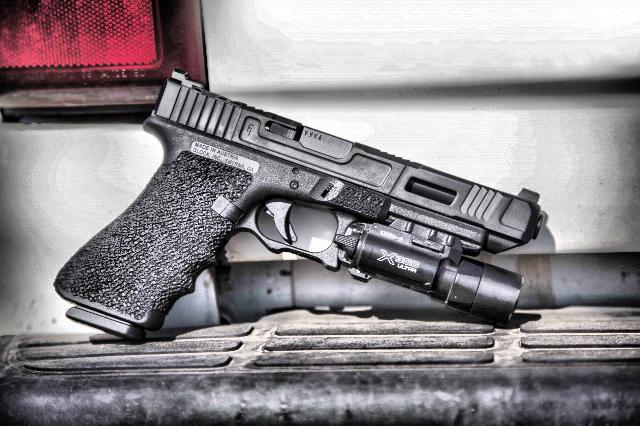pistol: (52, 61, 548, 343)
